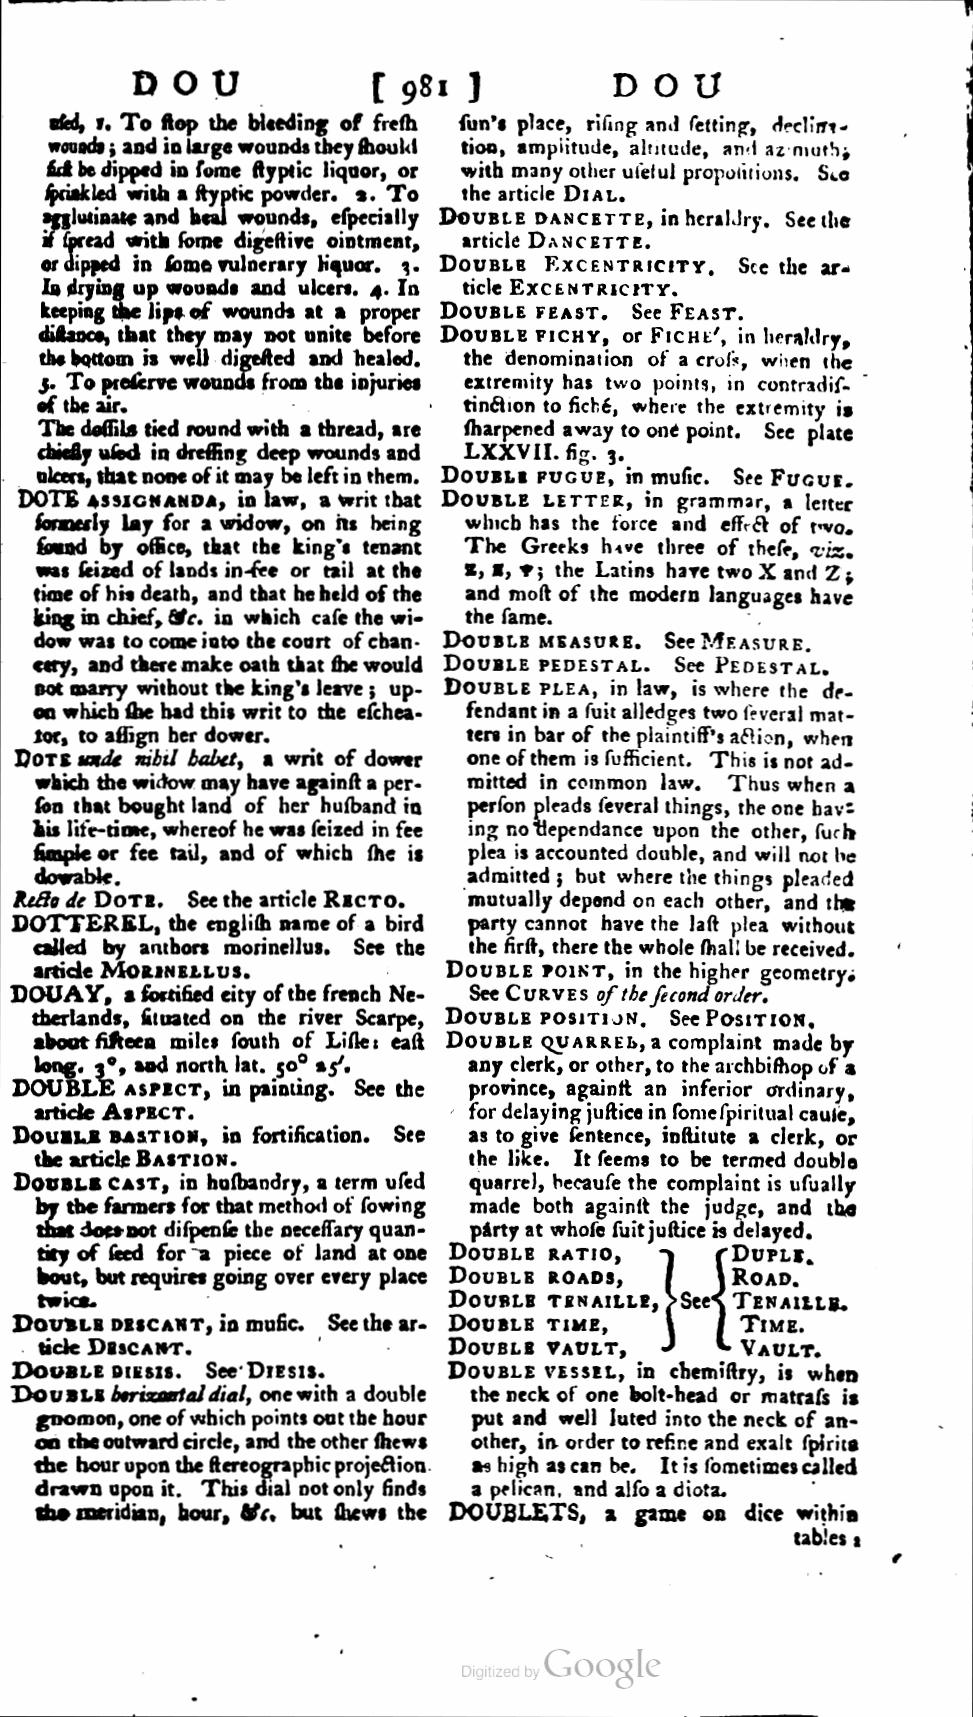bottom_p: (34, 110, 425, 373), (456, 111, 854, 204)
catchword: (790, 1527, 862, 1547)
full_p: (440, 676, 857, 959), (15, 486, 426, 749), (445, 1028, 861, 1244), (9, 1167, 430, 1310), (440, 323, 861, 466), (446, 1357, 862, 1501), (439, 487, 856, 627), (13, 746, 426, 888), (7, 980, 427, 1077), (8, 910, 428, 981), (33, 417, 425, 489), (8, 1123, 429, 1171), (439, 956, 857, 1005), (6, 1075, 426, 1123), (438, 251, 853, 298), (9, 1311, 432, 1357), (436, 204, 855, 250), (29, 371, 426, 415), (445, 1499, 862, 1527), (439, 465, 855, 489), (440, 626, 814, 653), (441, 652, 831, 678), (442, 1004, 818, 1029), (12, 888, 409, 910), (7, 1359, 329, 1382), (438, 298, 748, 322)
header: (606, 67, 728, 105), (127, 65, 244, 104)
page_num: (395, 70, 452, 110)
text_viz: (445, 1242, 852, 1359)
top_p: (11, 1382, 430, 1527)
